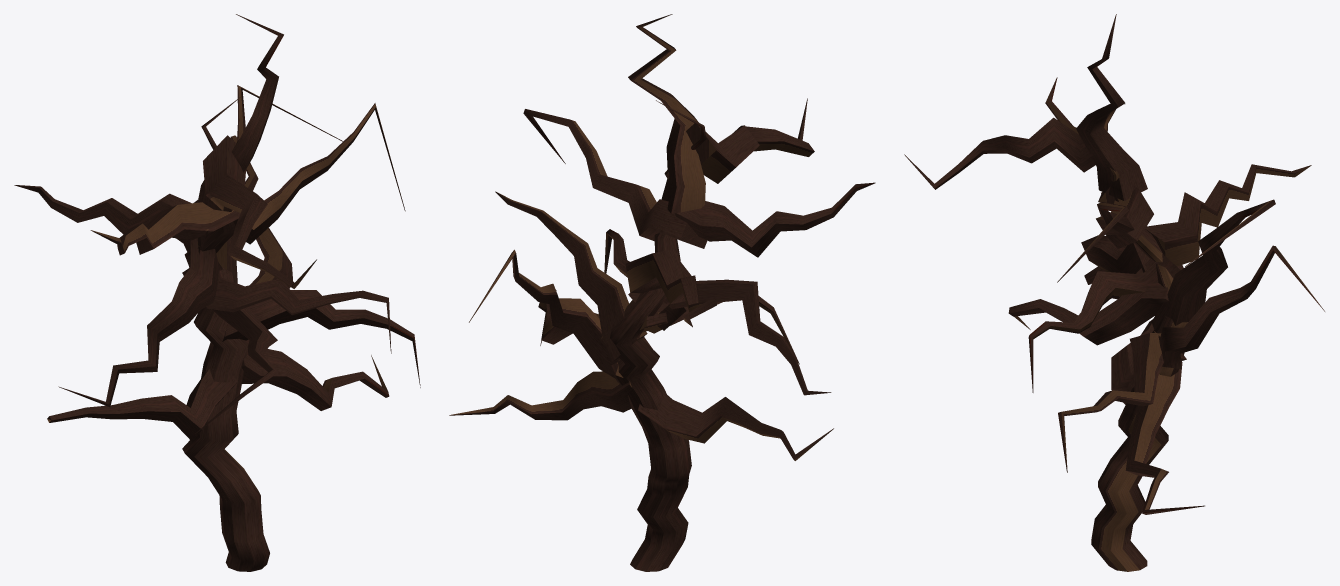
File: Tree1.fbx
3 views of the same model, side by side, from view 1: azimuth 30°, elevation 25°; view 2: azimuth 150°, elevation 25°; view 3: azimuth 270°, elevation 25° (orthographic). The views are drawn at different scales.
Visible parts, largest first — view 1: Branch_1, Twig_1, Twig_5, Twig_12, Twig_13, Twig_6, Twig_8, Twig_10, Twig_3, Twig_11, Twig_2, Twig_9 (+2 smaller); view 2: Branch_1, Twig_2, Twig_3, Twig_13, Twig_7, Twig_12, Twig_5, Twig_4, Twig_6, Twig_11, Twig_1, Twig_8 (+2 smaller); view 3: Branch_1, Twig_11, Twig_7, Twig_2, Twig_9, Twig_5, Twig_6, Twig_4, Twig_8, Twig_10, Twig_3, Twig_1 (+2 smaller).
Boxes of the visible parts, <box> form: Branch_1: <box>182,95,269,571</box>; Twig_1: <box>58,238,219,407</box>; Twig_5: <box>203,135,316,288</box>; Twig_12: <box>47,369,236,441</box>; Twig_13: <box>90,200,240,255</box>; Twig_6: <box>241,349,389,410</box>; Twig_8: <box>206,270,391,353</box>; Twig_10: <box>222,290,420,387</box>; Twig_3: <box>200,103,405,251</box>; Twig_11: <box>14,185,201,254</box>; Twig_2: <box>197,14,283,211</box>; Twig_9: <box>182,267,278,433</box>; Branch_1: <box>601,100,706,571</box>; Twig_2: <box>628,14,705,213</box>; Twig_3: <box>523,109,707,248</box>; Twig_13: <box>674,182,875,257</box>; Twig_7: <box>495,191,647,361</box>; Twig_12: <box>638,390,833,460</box>; Twig_5: <box>686,98,814,183</box>; Twig_4: <box>469,249,644,383</box>; Twig_6: <box>449,371,632,420</box>; Twig_11: <box>625,248,716,327</box>; Twig_1: <box>664,262,831,395</box>; Twig_8: <box>604,229,687,330</box>; Branch_1: <box>1091,104,1187,571</box>; Twig_11: <box>1145,164,1311,266</box>; Twig_7: <box>1151,199,1275,330</box>; Twig_2: <box>1076,14,1147,200</box>; Twig_9: <box>1008,282,1168,345</box>; Twig_5: <box>904,117,1095,189</box>; Twig_6: <box>1125,362,1204,514</box>; Twig_4: <box>1153,245,1324,368</box>; Twig_8: <box>1028,254,1180,392</box>; Twig_10: <box>1058,333,1186,472</box>; Twig_3: <box>1057,187,1153,282</box>; Twig_1: <box>1081,235,1150,298</box>.
Bounding box in the file's own units: 39.54 × 59.09 × 41.66.
